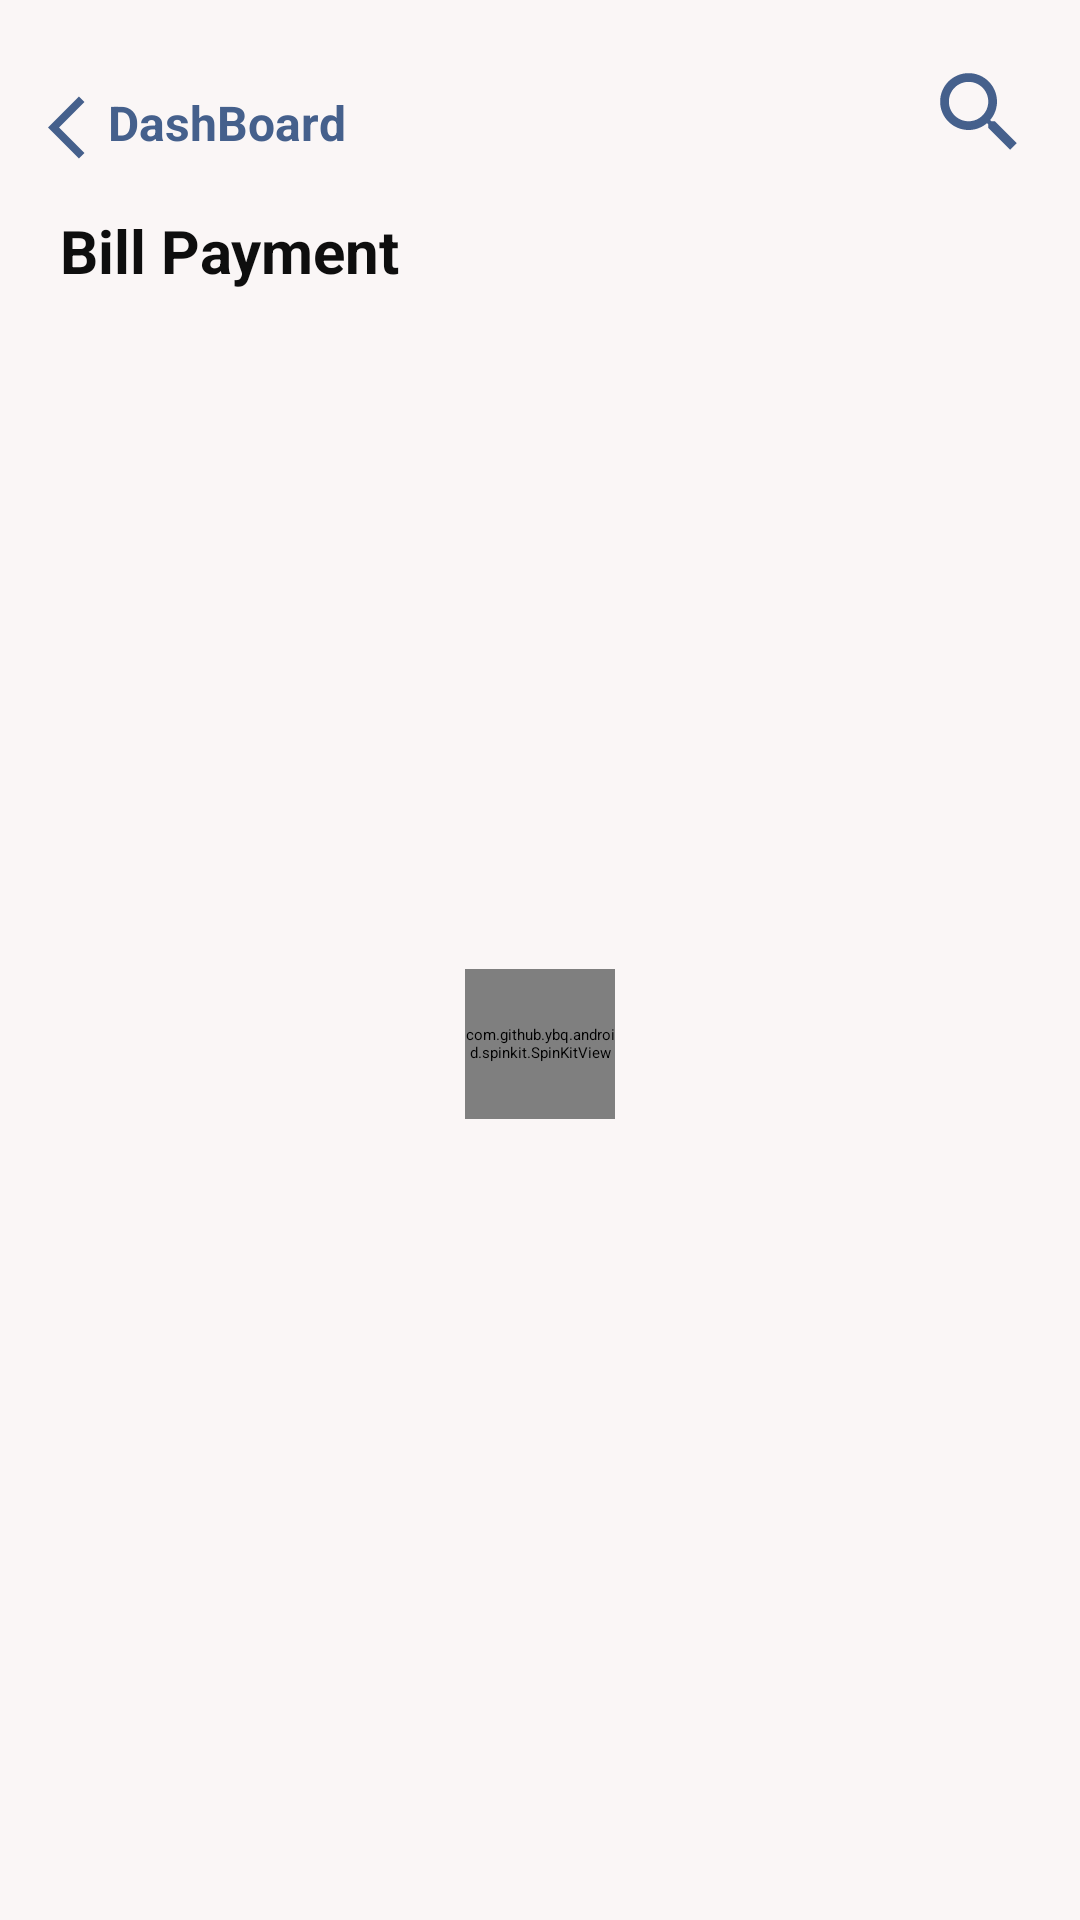

Icon bounding boxes for this 1080x1920 phone screenshot, format detection(x1, y1, x2, y2):
arrow back: detection(48, 96, 84, 159)
search: detection(940, 73, 1017, 150)
